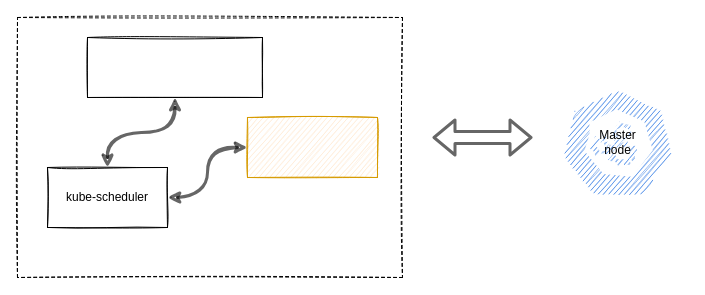
Image size: 705x295. Some labels were removed from this diagram. Here are the shapes that lost their labels. From the top down, the centre of each, then its label:
At pixel 174 67: "Kube-controller-manager".
At pixel 312 147: "kube-apiserver".
